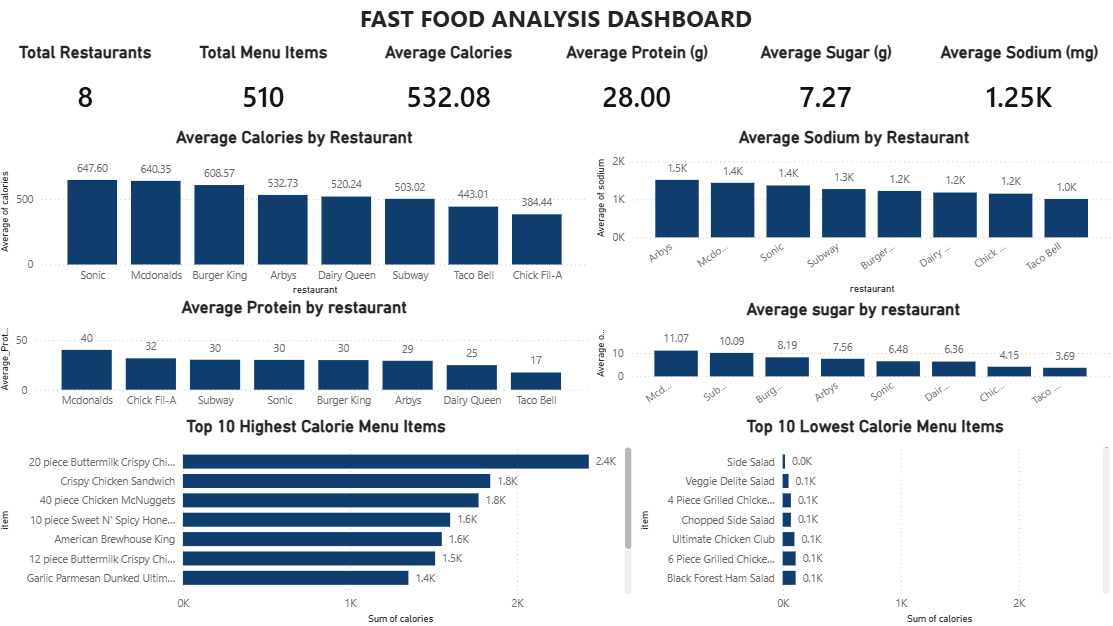

Layout of this report page (visuals, bound fields, positions):
{"tool":"powerbi","page":{"name":"Page 1","canvas":[1280,720],"ordinal":0},"visuals":[{"type":"textbox","box":[0,0,1280.3,52.1],"z":0},{"type":"cardVisual","title":"Total Restaurants ","fields":{"Data":["Food_.Restaurants"]},"box":[0,52,204,96],"z":1000},{"type":"cardVisual","title":"Average Calories","fields":{"Data":["Food_.Average Calories"]},"box":[406.7,52,220,96],"z":2000},{"type":"cardVisual","title":"Total Menu Items","fields":{"Data":["Food_.Total_Menu_Items"]},"box":[204,52,202.7,96],"z":3000},{"type":"cardVisual","title":"Average Protein (g)","fields":{"Data":["Avg(Food_.protein)"]},"box":[626.7,52,210.7,96],"z":4000},{"type":"cardVisual","title":"Average Sugar (g)","fields":{"Data":["Avg(Food_.sugar)"]},"box":[837.3,52,222.7,96],"z":5000},{"type":"clusteredColumnChart","title":"Average Calories by Restaurant","fields":{"Category":["Food_.restaurant"],"Y":["Avg(Food_.calories)"]},"box":[0,148,682,196],"z":6000},{"type":"clusteredColumnChart","title":"Average Protein by restaurant","fields":{"Y":["Food_.Average_Protein"],"Category":["Food_.restaurant"]},"box":[0,343.3,681.7,135],"z":7000},{"type":"clusteredColumnChart","title":"Average sugar by restaurant","fields":{"Y":["Avg(Food_.sugar)"],"Category":["Food_.restaurant"]},"box":[681.7,345,596.7,133.3],"z":8000},{"type":"clusteredColumnChart","title":"Average Sodium by Restaurant","fields":{"Y":["Avg(Food_.sodium)"],"Category":["Food_.restaurant"]},"box":[681.7,148.3,598.3,195],"z":9000},{"type":"clusteredBarChart","title":"Top 10 Highest Calorie Menu Items","fields":{"Category":["Food_.item"],"Y":["Sum(Food_.calories)"]},"box":[0,478.3,731.7,241.7],"z":10000},{"type":"clusteredBarChart","title":"Top 10 Lowest Calorie Menu Items","fields":{"Category":["Food_.item"],"Y":["Sum(Food_.calories)"]},"box":[731.7,478.3,546.7,241.7],"z":11000},{"type":"cardVisual","title":"Average Sodium (mg)","fields":{"Data":["Food_.Average_Sodium"]},"box":[1060,52,218.7,96],"z":12000}]}

Visuals, with their boxes in screenshot pixels (x1, y1, x2, y2), scaled from the page's 1280x720 canvas onto the 1113x626 screenshot:
textbox: rect(0, 0, 1112, 45)
"Total Restaurants " cardVisual: rect(0, 45, 177, 129)
"Average Calories" cardVisual: rect(354, 45, 545, 129)
"Total Menu Items" cardVisual: rect(177, 45, 354, 129)
"Average Protein (g)" cardVisual: rect(545, 45, 728, 129)
"Average Sugar (g)" cardVisual: rect(728, 45, 922, 129)
"Average Calories by Restaurant" clusteredColumnChart: rect(0, 129, 593, 299)
"Average Protein by restaurant" clusteredColumnChart: rect(0, 298, 593, 416)
"Average sugar by restaurant" clusteredColumnChart: rect(593, 300, 1112, 416)
"Average Sodium by Restaurant" clusteredColumnChart: rect(593, 129, 1112, 298)
"Top 10 Highest Calorie Menu Items" clusteredBarChart: rect(0, 416, 636, 625)
"Top 10 Lowest Calorie Menu Items" clusteredBarChart: rect(636, 416, 1112, 625)
"Average Sodium (mg)" cardVisual: rect(922, 45, 1112, 129)
